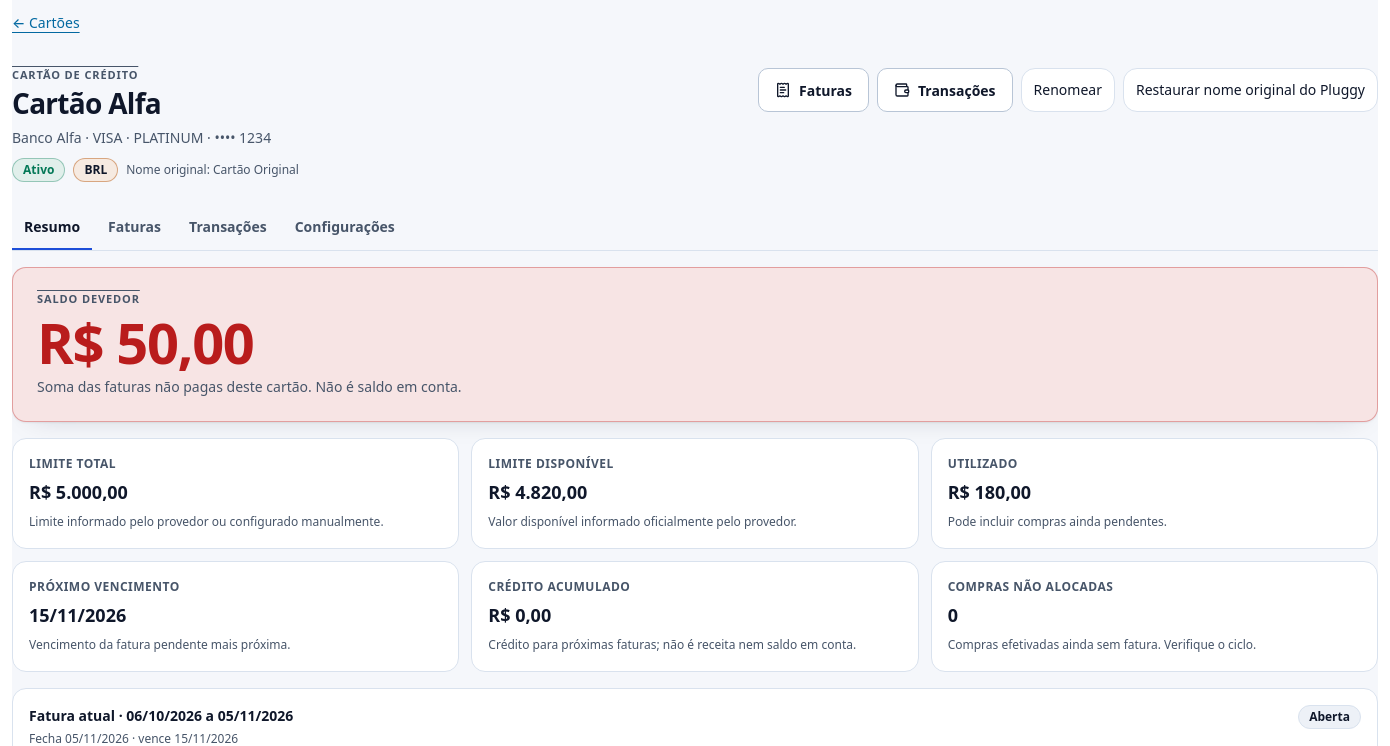
Test: detalhe do cartão › permite renomear o cartão sem alterar o nome original
expect the heading "Cartão Alfa" is shown: met, box [12, 84, 161, 122]
Click the button "Renomear" at (1068, 90), box [1021, 68, 1115, 112]
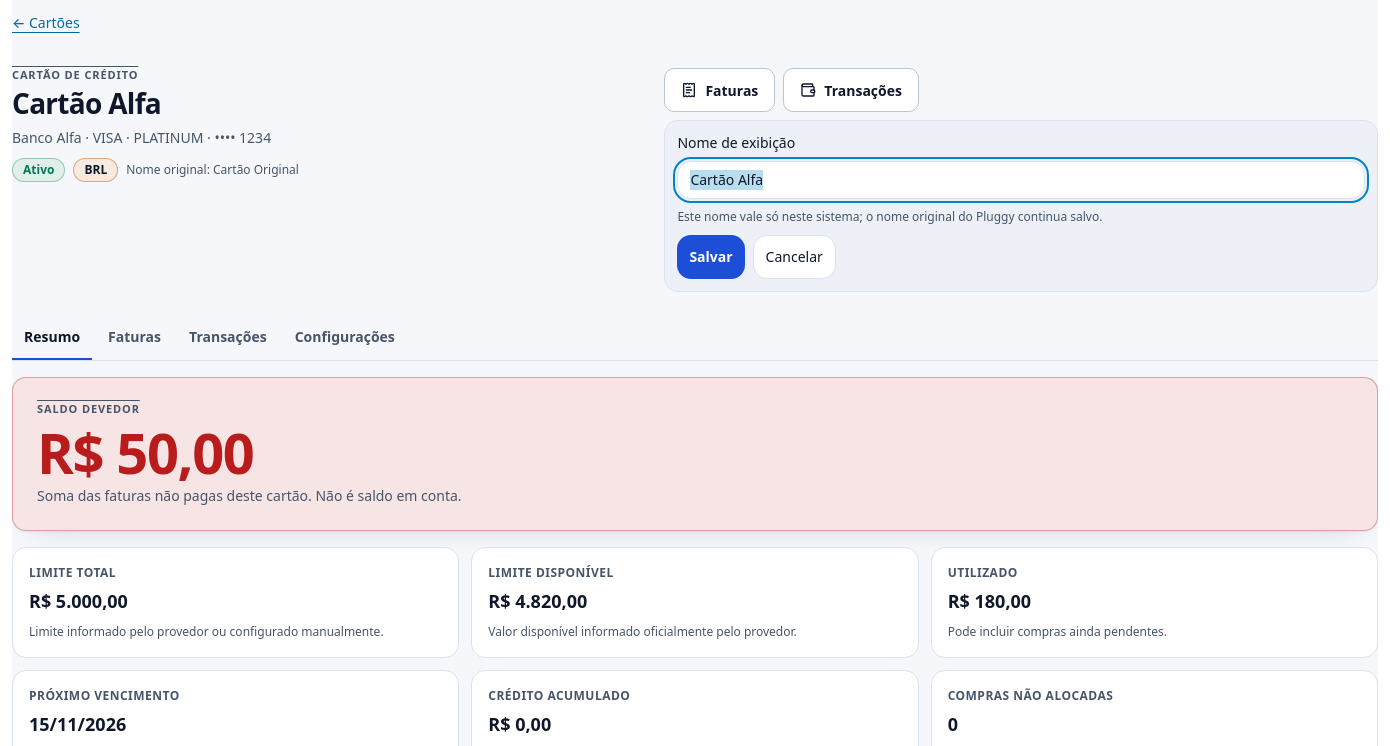
Replace the text in the field labelled "Nome de exibição" with "Cartão Novo" at (1021, 180), box [677, 161, 1365, 199]
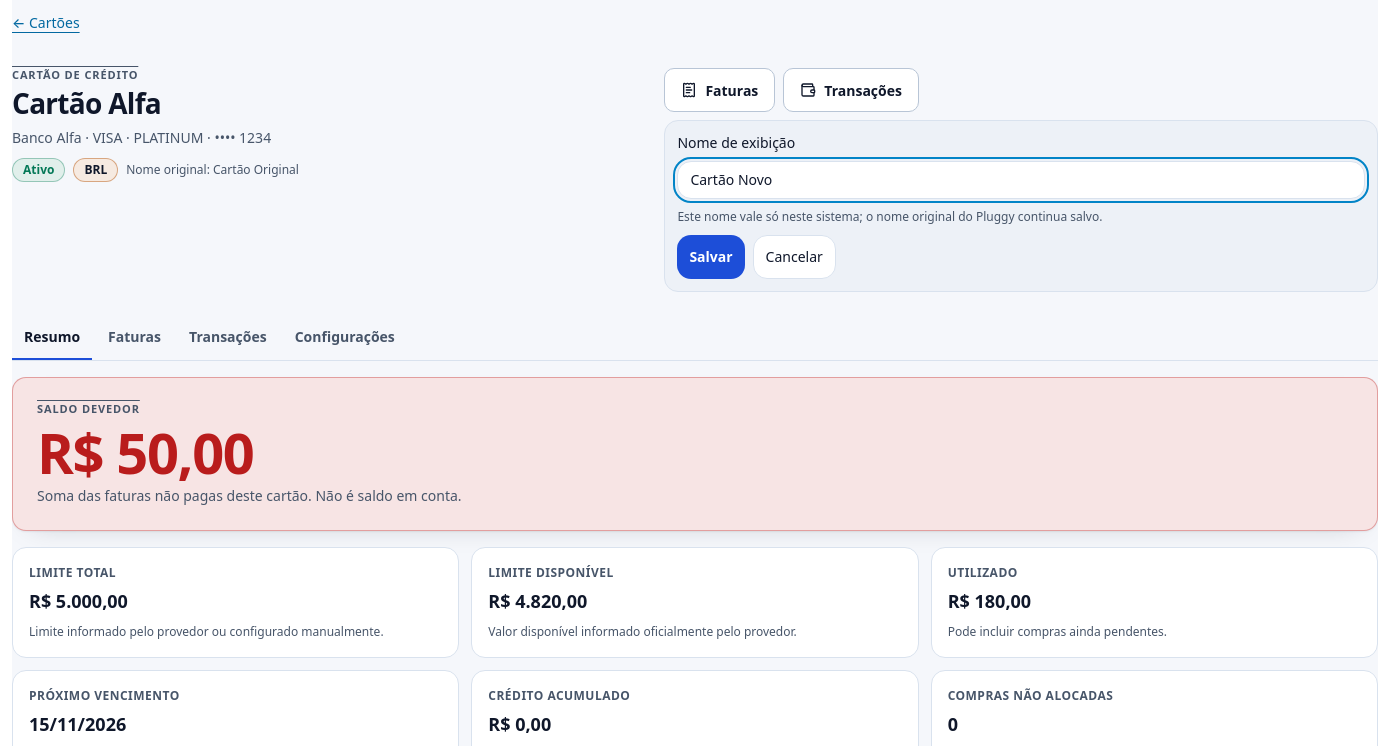
Click the button "Salvar" at (711, 256), box [677, 234, 745, 278]
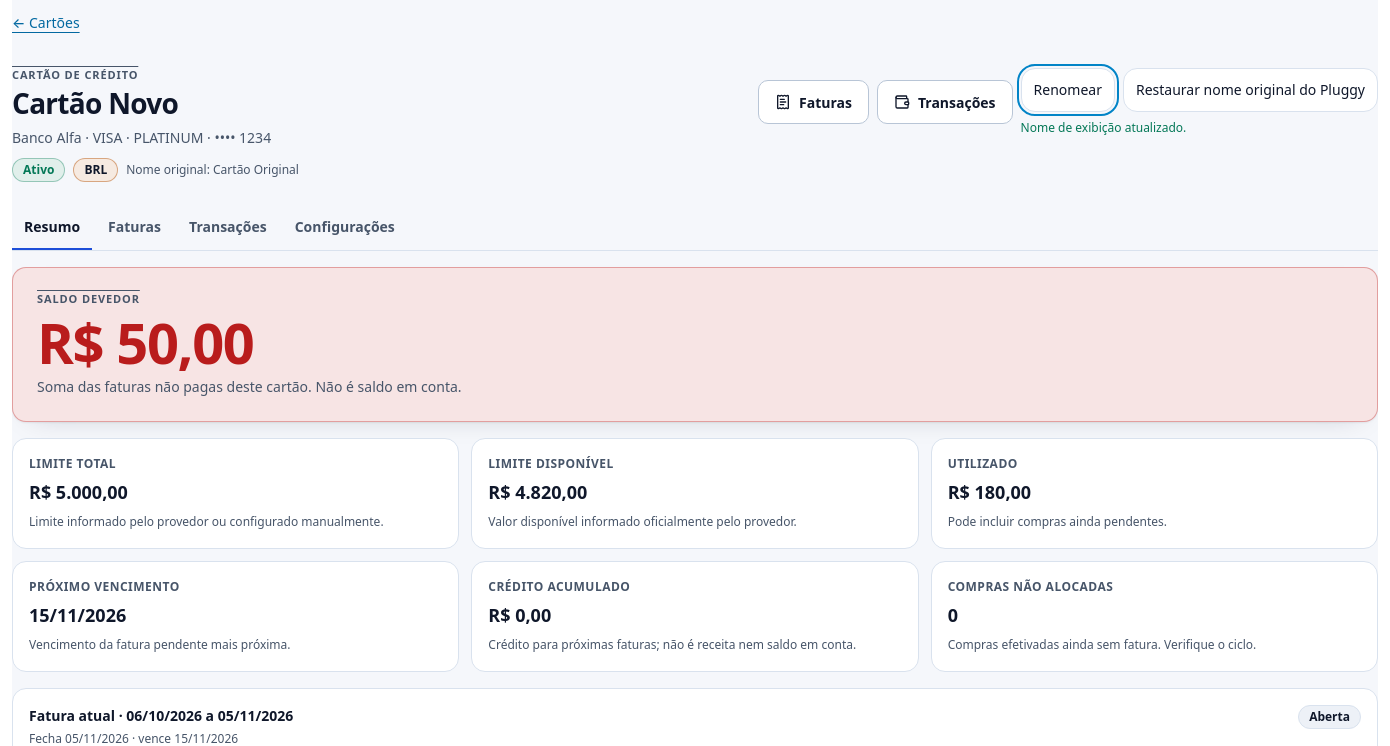
expect the text "Nome original: Cartão Original" is shown: met, box [126, 161, 299, 179]
expect the heading "Cartão Novo" is shown: met, box [12, 84, 178, 122]
